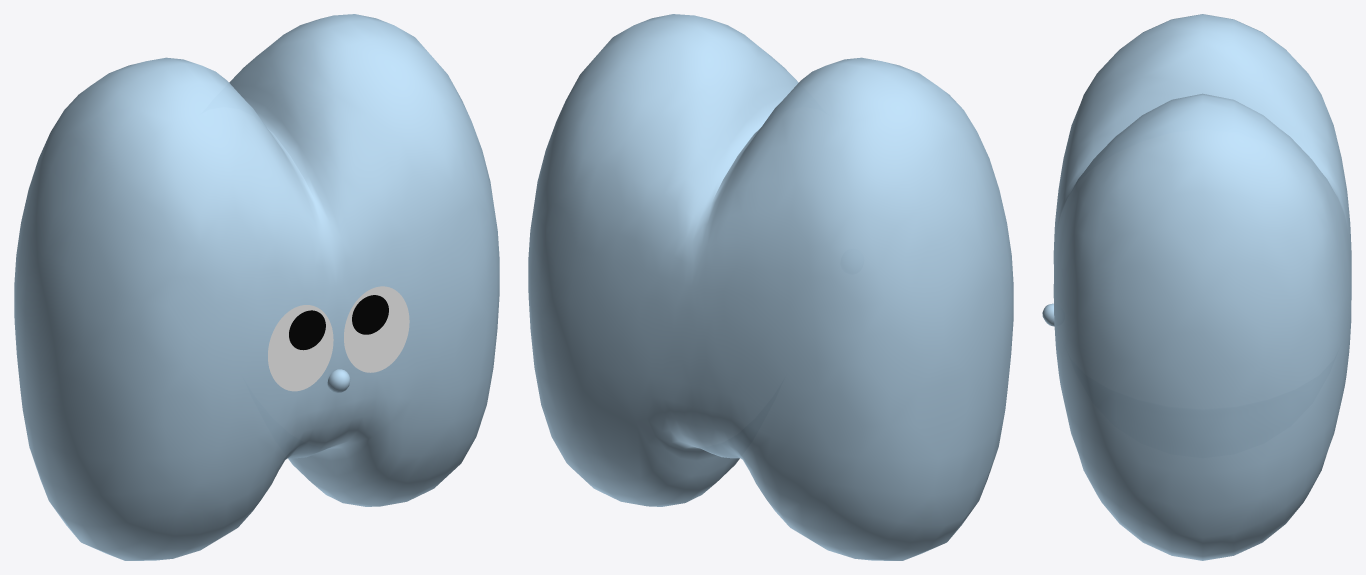
File: realTubi.gltf
The picture shows the model from 3 angles, left to right: view 1: azimuth 30°, elevation 25°; view 2: azimuth 150°, elevation 25°; view 3: azimuth 270°, elevation 25°; orthographic projection. The views are drawn at different scales.
Parts seen in each view (by area): view 1: M, Disc (×2); view 2: M; view 3: M.
Part boxes in pixels (box(x1,y1,x2,y2)): M: box(14, 14, 499, 560); Disc (×2): box(268, 286, 409, 391); M: box(528, 14, 1013, 560); M: box(1042, 14, 1351, 560).
Bounding box in the file's own units: 88.56 × 93.15 × 59.57.
